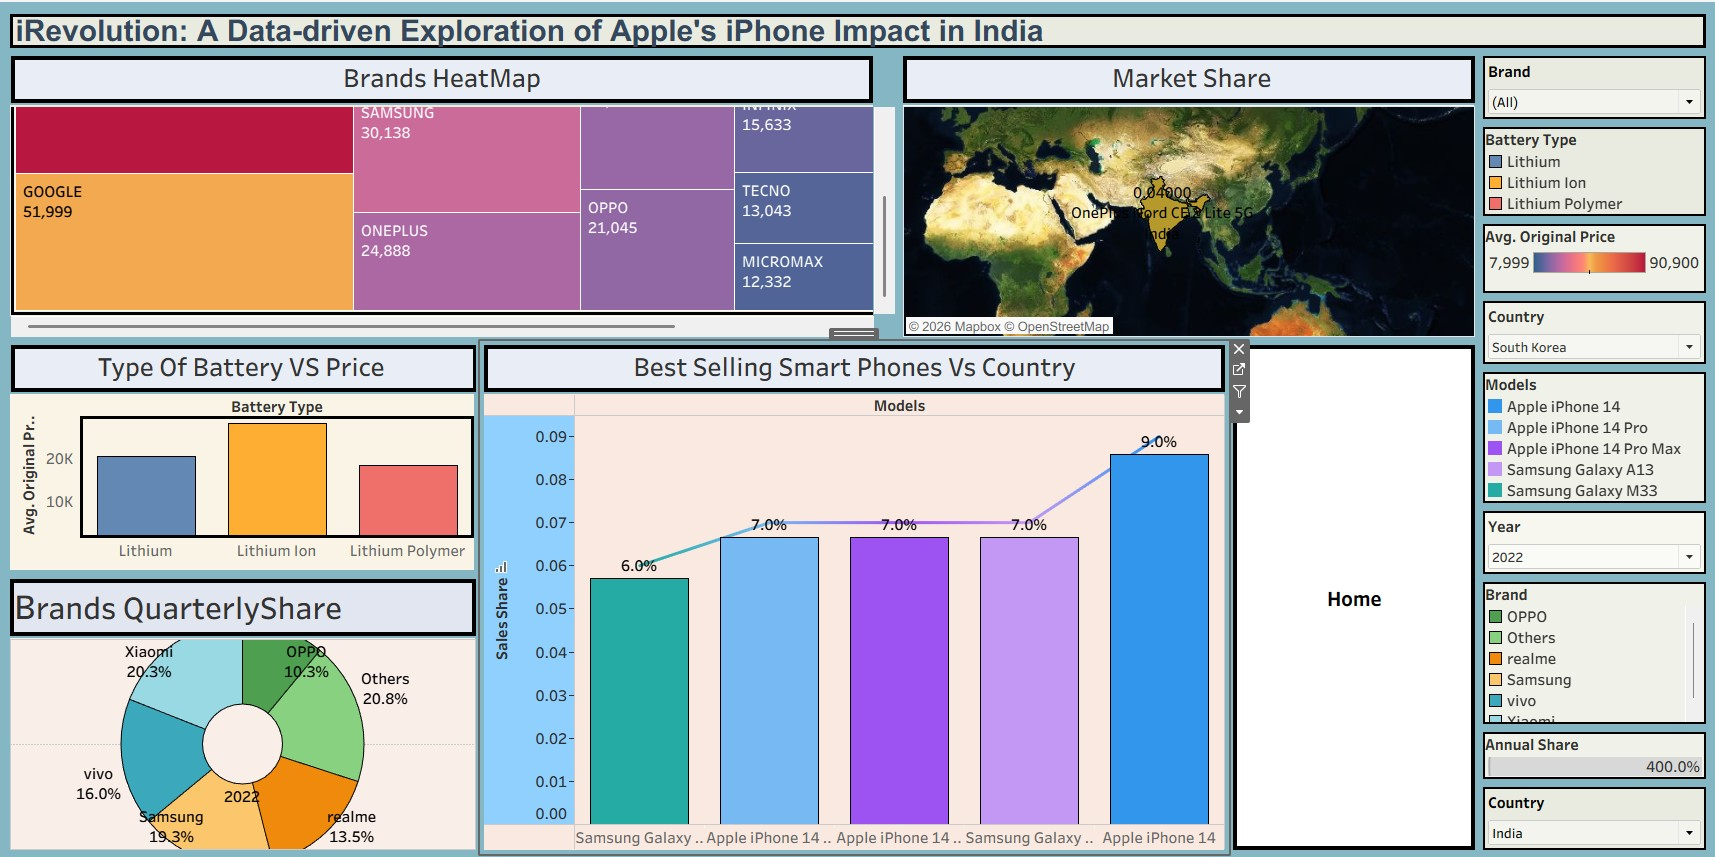

The dashboard page shown, as its layout file describes it:
{"tool":"tableau","page":{"name":"Dashboard 2","canvas":[1000,1000],"units":"permille","ordinal":1},"visuals":[{"type":"title","box":[4.7,9.5,990.7,49.7]},{"type":"worksheet","title":"Brands_HeatMap","mark":"Automatic","box":[4.7,59.2,428.2,336.1]},{"type":"worksheet","title":"Market_Share","mark":"Multipolygon","box":[432.9,59.2,428.2,336.1]},{"type":"filter","title":"Battery_Type","param":"[federated.0z41rgo0zktw0515zpim40w6zxm2].[none:brand:nk]","box":[861.1,59.2,134.3,84]},{"type":"legend","title":"Battery_Type","param":"[federated.0z41rgo0zktw0515zpim40w6zxm2].[none:battery_type:nk]","box":[861.1,143.2,134.3,114.8]},{"type":"legend","title":"Brands_HeatMap","param":"[federated.0z41rgo0zktw0515zpim40w6zxm2].[avg:original_price:qk]","box":[861.1,258,134.3,91.1]},{"type":"filter","title":"Best_Sellers_Bar_Graph","param":"[federated.1ykcudf1g0watl18b0ay7142lxdb].[none:Country:nk]","box":[861.1,349.1,134.3,84]},{"type":"worksheet","title":"Battery_Type","mark":"Automatic","rows":["original_price"],"cols":["battery_type"],"box":[4.7,395.3,275.6,271]},{"type":"worksheet","title":"Best_Sellers_Bar_Graph","mark":"Automatic","rows":["Sales Share","Sales Share"],"cols":["Models"],"box":[280.2,395.3,435.5,595.2]},{"type":"dashboard-object","box":[715.7,395.3,145.4,595.2]},{"type":"legend","title":"Best_Sellers_Bar_Graph","param":"[federated.1ykcudf1g0watl18b0ay7142lxdb].[none:Models:nk]","box":[861.1,433.2,134.3,162.1]},{"type":"filter","title":"Dount_Chart_QuarterlyShare","param":"[federated.1yzdird1so1o5y1bw49l00i2l0a9].[none:Year:ok]","box":[861.1,595.3,134.3,84]},{"type":"worksheet","title":"Dount_Chart_QuarterlyShare","mark":"Pie","rows":["Calculation_658932941932560386","Calculation_658932941932560386"],"box":[4.7,666.3,275.6,324.3]},{"type":"legend","title":"Dount_Chart_QuarterlyShare","param":"[federated.1yzdird1so1o5y1bw49l00i2l0a9].[none:Brand:nk]","box":[861.1,679.3,134.3,162.1]},{"type":"legend","title":"Dount_Chart_QuarterlyShare","param":"[federated.1yzdird1so1o5y1bw49l00i2l0a9].[sum:Calculation_658932941931028480:qk]","box":[861.1,841.4,134.3,65.1]},{"type":"filter","title":"Market_Share","param":"[federated.0sbpprw163dbe31asns3u1emd92n].[none:Country:nk]","box":[861.1,906.5,134.3,84]}]}

Visuals, with their boxes on the dashboard's canvas, which has no fixed pixel size, in thousandths of its width and height (x1, y1, x2, y2). These are canvas units, not pixel positions in the 1715x857 screenshot, which may show the page scaled, cropped or inside an application window:
title: rect(5, 10, 995, 59)
"Brands_HeatMap" worksheet: rect(5, 59, 433, 395)
"Market_Share" worksheet (Multipolygon marks): rect(433, 59, 861, 395)
"Battery_Type" filter: rect(861, 59, 995, 143)
"Battery_Type" legend: rect(861, 143, 995, 258)
"Brands_HeatMap" legend: rect(861, 258, 995, 349)
"Best_Sellers_Bar_Graph" filter: rect(861, 349, 995, 433)
"Battery_Type" worksheet: rect(5, 395, 280, 666)
"Best_Sellers_Bar_Graph" worksheet: rect(280, 395, 716, 990)
dashboard-object: rect(716, 395, 861, 990)
"Best_Sellers_Bar_Graph" legend: rect(861, 433, 995, 595)
"Dount_Chart_QuarterlyShare" filter: rect(861, 595, 995, 679)
"Dount_Chart_QuarterlyShare" worksheet (Pie marks): rect(5, 666, 280, 991)
"Dount_Chart_QuarterlyShare" legend: rect(861, 679, 995, 841)
"Dount_Chart_QuarterlyShare" legend: rect(861, 841, 995, 906)
"Market_Share" filter: rect(861, 906, 995, 990)
